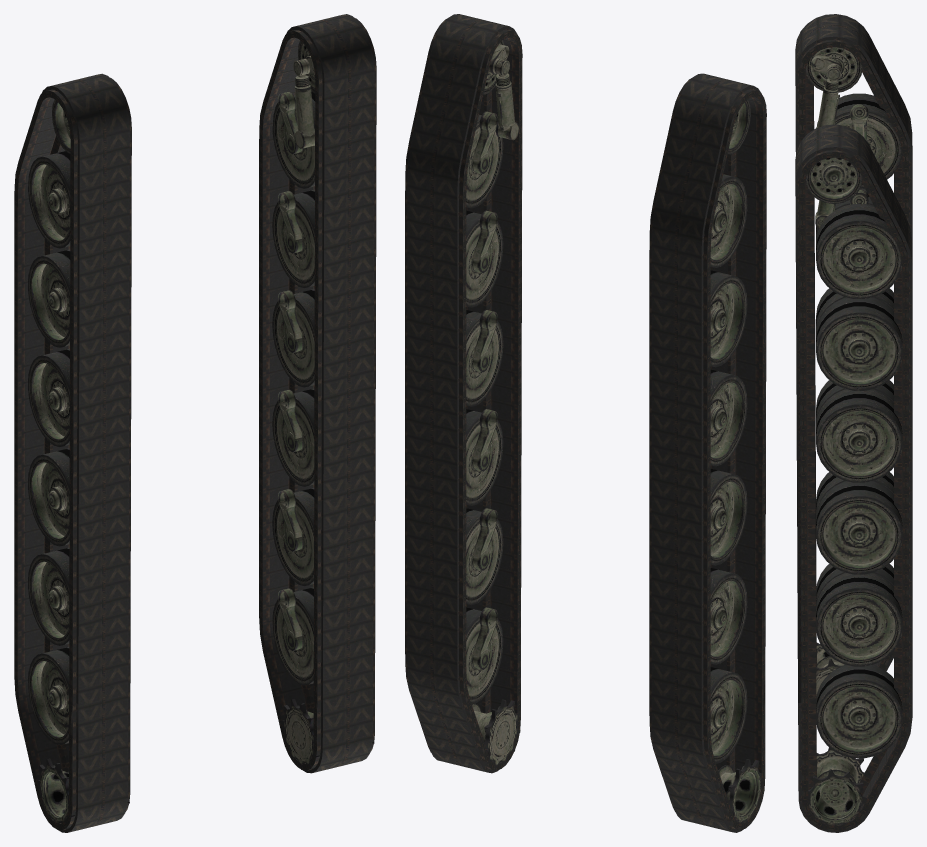
File: Chassis.glb
3 views of the same model, side by side, from view 1: azimuth 30°, elevation 25°; view 2: azimuth 150°, elevation 25°; view 3: azimuth 270°, elevation 25° (orthographic). The views are drawn at different scales.
Parts seen in each view (by area): view 1: set_0_group_0, set_1_group_0, set_3_group_0, set_2_group_0; view 2: set_0_group_0, set_1_group_0, set_3_group_0, set_2_group_0; view 3: set_3_group_0, set_1_group_0, set_2_group_0, set_0_group_0.
Part boxes in pixels (x1,y1,x2,y2): set_0_group_0: (14,73,131,832); set_1_group_0: (259,14,376,773); set_3_group_0: (272,40,374,769); set_2_group_0: (28,99,129,828); set_0_group_0: (649,73,766,832); set_1_group_0: (405,14,522,773); set_3_group_0: (466,40,520,770); set_2_group_0: (710,99,764,823); set_3_group_0: (802,157,902,831); set_1_group_0: (795,124,912,832); set_2_group_0: (805,47,901,695); set_0_group_0: (795,14,912,671).
Size of the model in its own units: 3.35 by 7.84 by 1.21.
4 materials, 4 textured.
